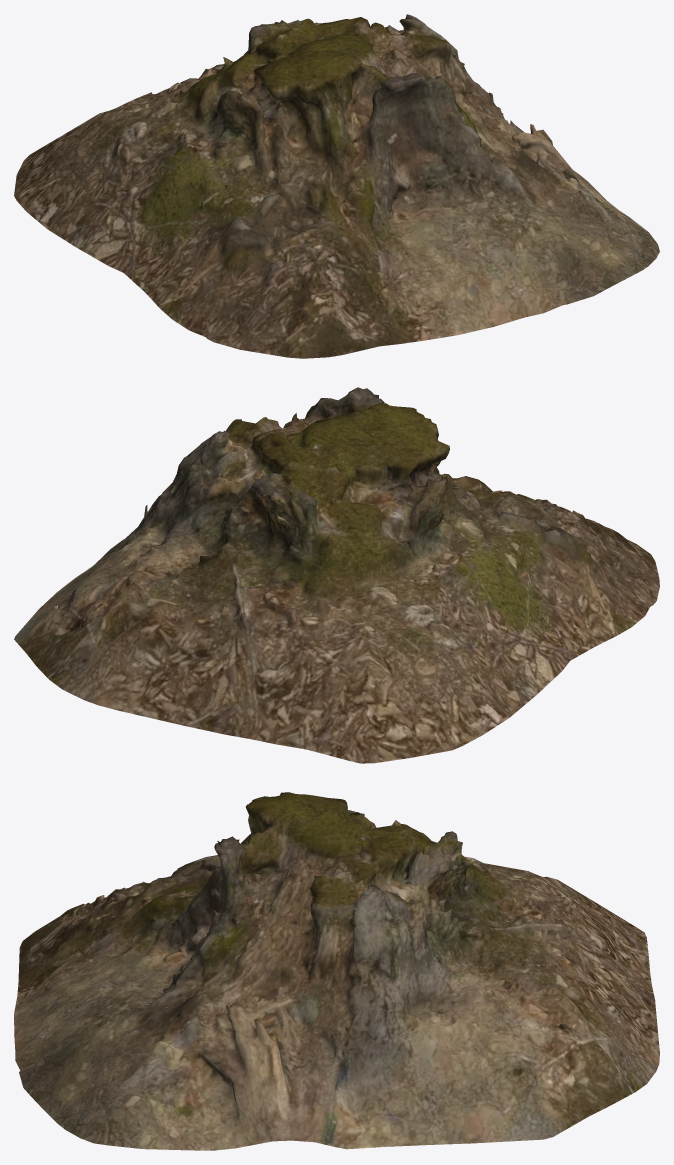
The model's file is tree_stump_01.glb.
3 renders of one model, top to bottom at view 1: azimuth 30°, elevation 25°; view 2: azimuth 150°, elevation 25°; view 3: azimuth 270°, elevation 25°, orthographic. The views are drawn at different scales.
Visible parts, largest first — view 1: tree_stump_01; view 2: tree_stump_01; view 3: tree_stump_01.
Part boxes in pixels (x1,y1,x2,y2): tree_stump_01: (14, 14, 659, 358); tree_stump_01: (14, 387, 659, 763); tree_stump_01: (14, 792, 659, 1150).
Bounding box in the file's own units: 1.43 × 0.5725 × 1.59.
1 material, 1 textured.
